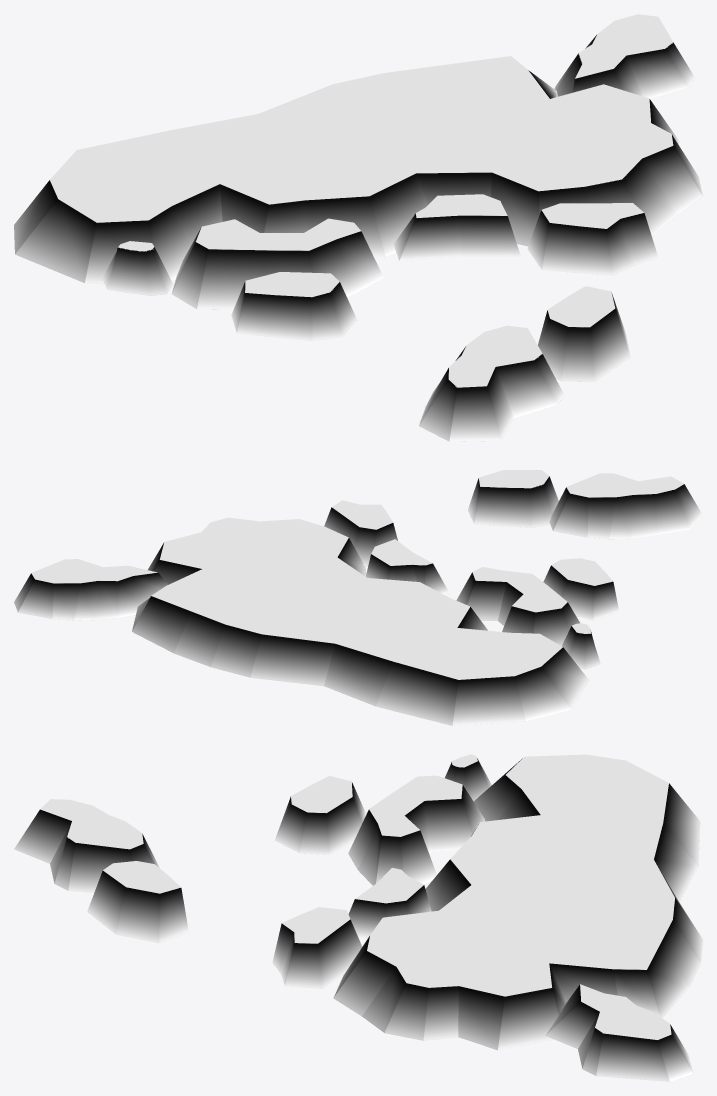
The model's file is ice_00.fbx.
3 renders of one model, top to bottom at view 1: azimuth 30°, elevation 25°; view 2: azimuth 150°, elevation 25°; view 3: azimuth 270°, elevation 25°, orthographic. The views are drawn at different scales.
Parts seen in each view (by area): view 1: ice_07, ice_03, ice_05, ice_06, ice_09, ice_02, ice_04, ice_01, ice_08; view 2: ice_07, ice_05, ice_09, ice_03, ice_04, ice_02, ice_06, ice_01, ice_08; view 3: ice_07, ice_03, ice_09, ice_05, ice_04, ice_06, ice_02, ice_01, ice_08.
Boxes of the visible parts, <box> form: ice_07: <box>14,56,702,284</box>; ice_03: <box>172,218,383,309</box>; ice_05: <box>419,325,564,441</box>; ice_06: <box>527,203,658,275</box>; ice_09: <box>554,14,695,99</box>; ice_02: <box>231,272,356,340</box>; ice_04: <box>538,286,630,381</box>; ice_01: <box>394,194,520,260</box>; ice_08: <box>102,241,172,295</box>; ice_07: <box>132,517,588,725</box>; ice_05: <box>549,473,702,539</box>; ice_09: <box>14,559,168,620</box>; ice_03: <box>456,567,579,645</box>; ice_04: <box>467,470,558,527</box>; ice_02: <box>543,558,619,620</box>; ice_06: <box>324,500,397,566</box>; ice_01: <box>365,539,449,594</box>; ice_08: <box>562,623,600,669</box>; ice_07: <box>333,754,702,1050</box>; ice_03: <box>348,775,485,885</box>; ice_09: <box>545,984,693,1081</box>; ice_05: <box>14,799,159,892</box>; ice_04: <box>87,861,188,943</box>; ice_06: <box>272,907,362,988</box>; ice_02: <box>274,776,365,854</box>; ice_01: <box>348,868,431,937</box>; ice_08: <box>445,754,491,801</box>.
Bounding box in the file's own units: 134 × 9.22 × 126.
1 material, 1 textured.
